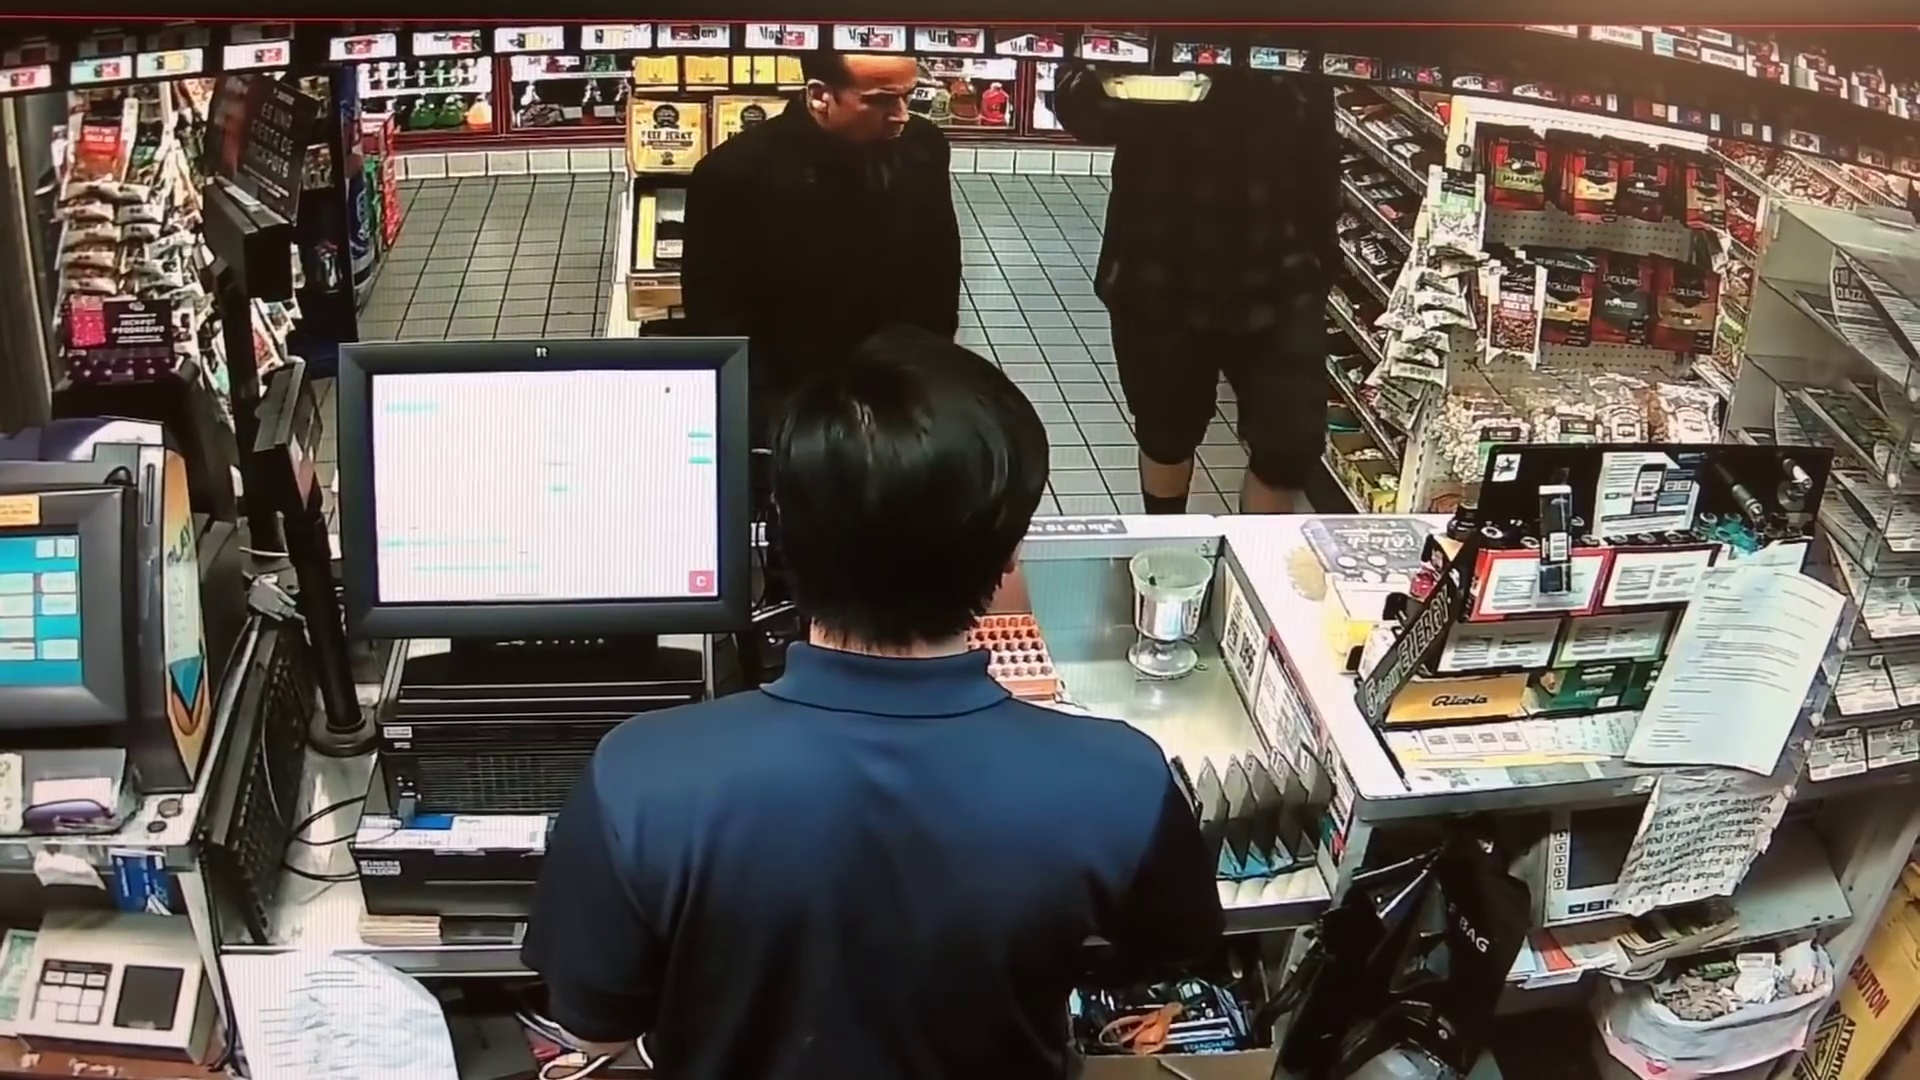face: (820, 59, 918, 141)
